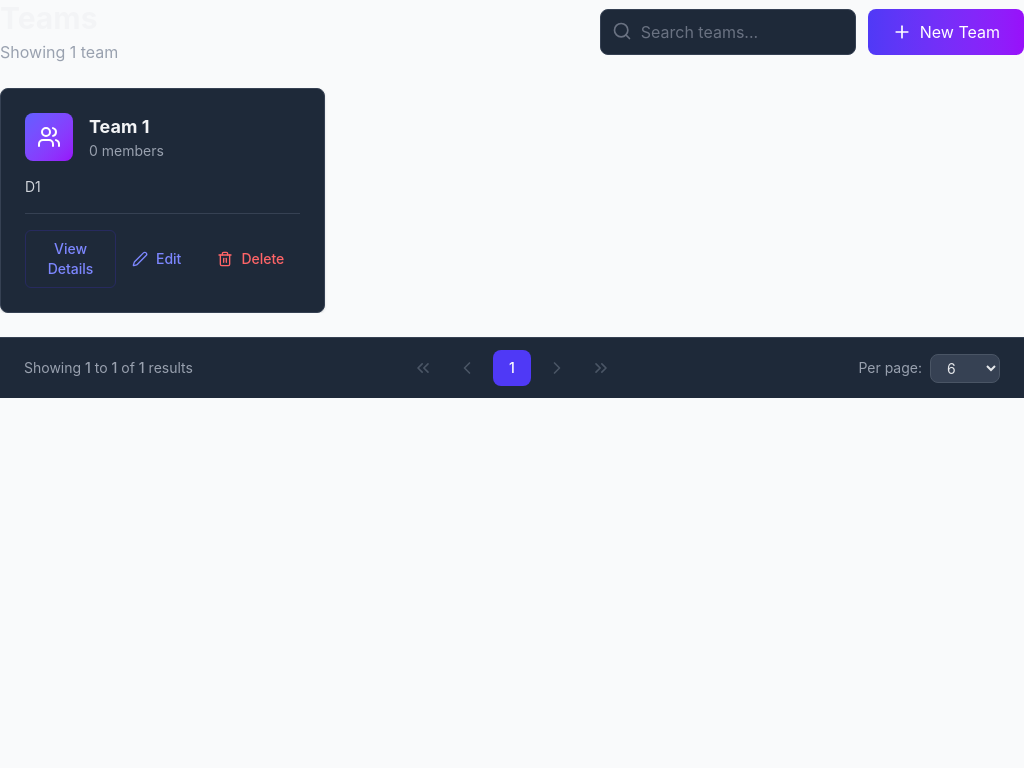
TeamsPage dedicated › renders no-available-employees message in add member modal
What coordinates should you click on to do the following:
click the button "View Details"
I would click on:
 (70, 259)
Its box is [25, 230, 116, 288].
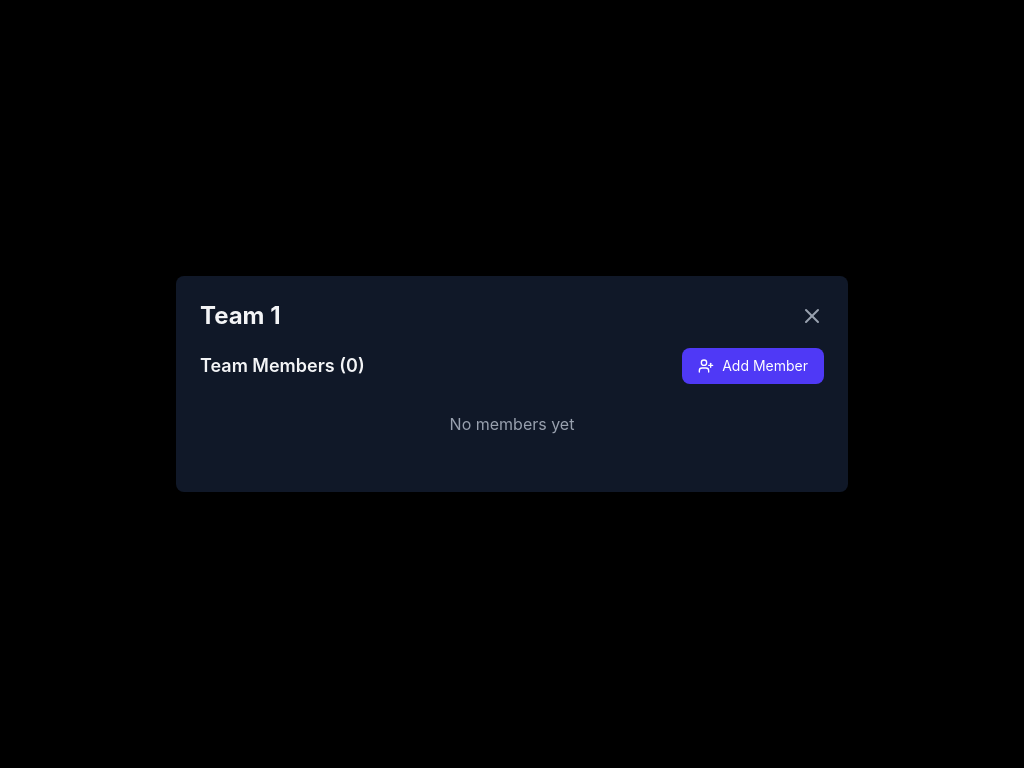
Now the button "Add Member" is shown
What coordinates should you click on to do the following:
click the button "Add Member"
I would click on:
 (753, 366)
Its box is [682, 348, 824, 384].
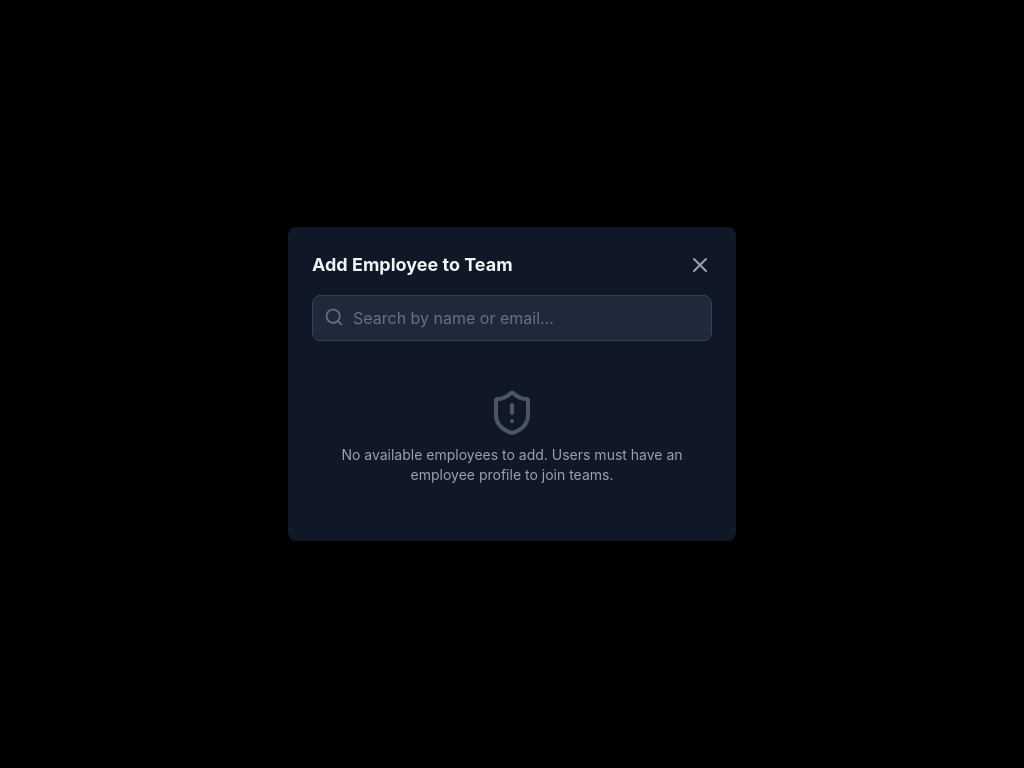
Now the text "No available employees to add" is shown, box [341, 446, 683, 483]
